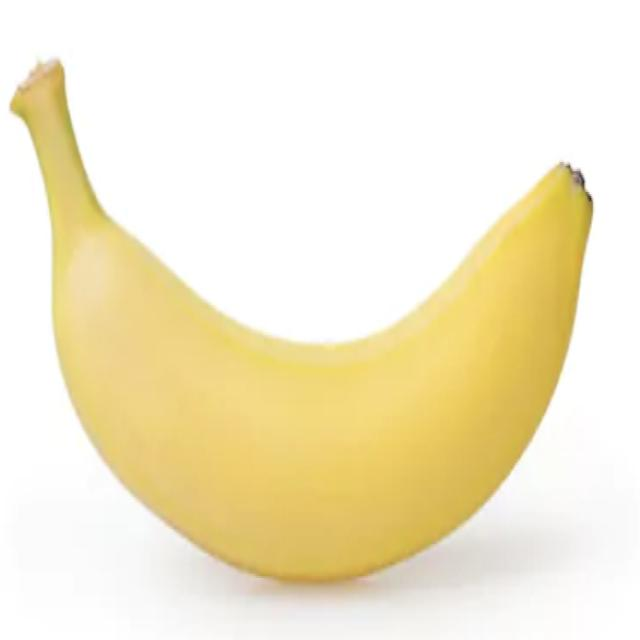fresh-banana: (9, 54, 594, 584)
